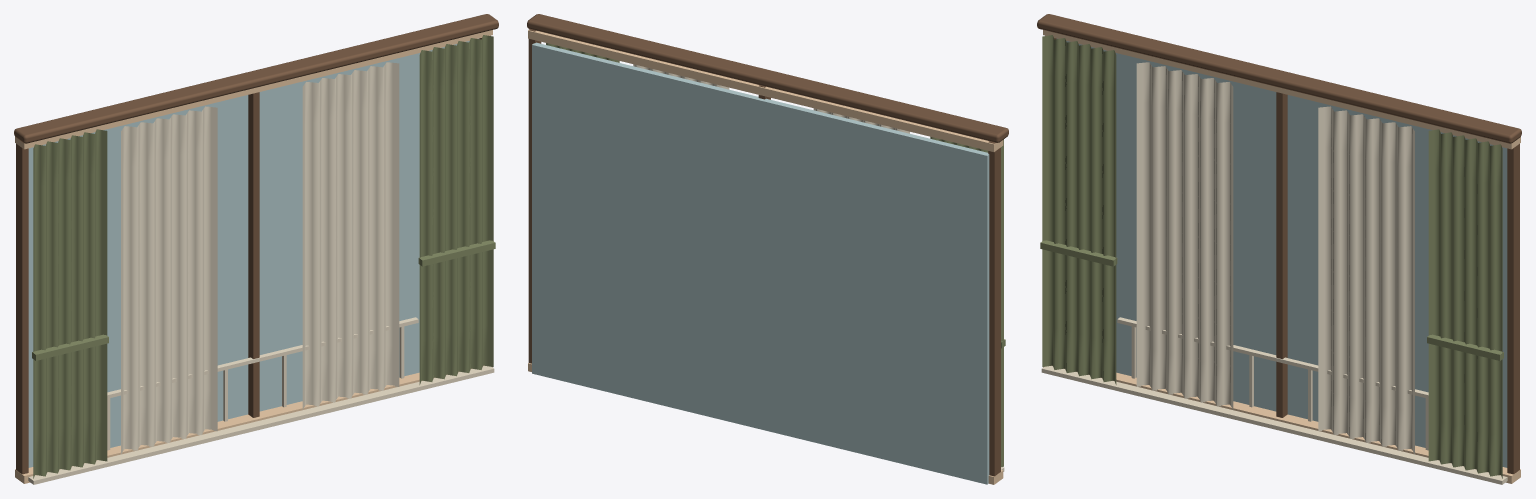
The model's file is living_ref_window.glb.
3 renders of one model, left to right at view 1: azimuth 30°, elevation 25°; view 2: azimuth 150°, elevation 25°; view 3: azimuth 330°, elevation 25°, orthographic.
Size of the model in its own units: 5.66 by 3.99 by 0.365.
